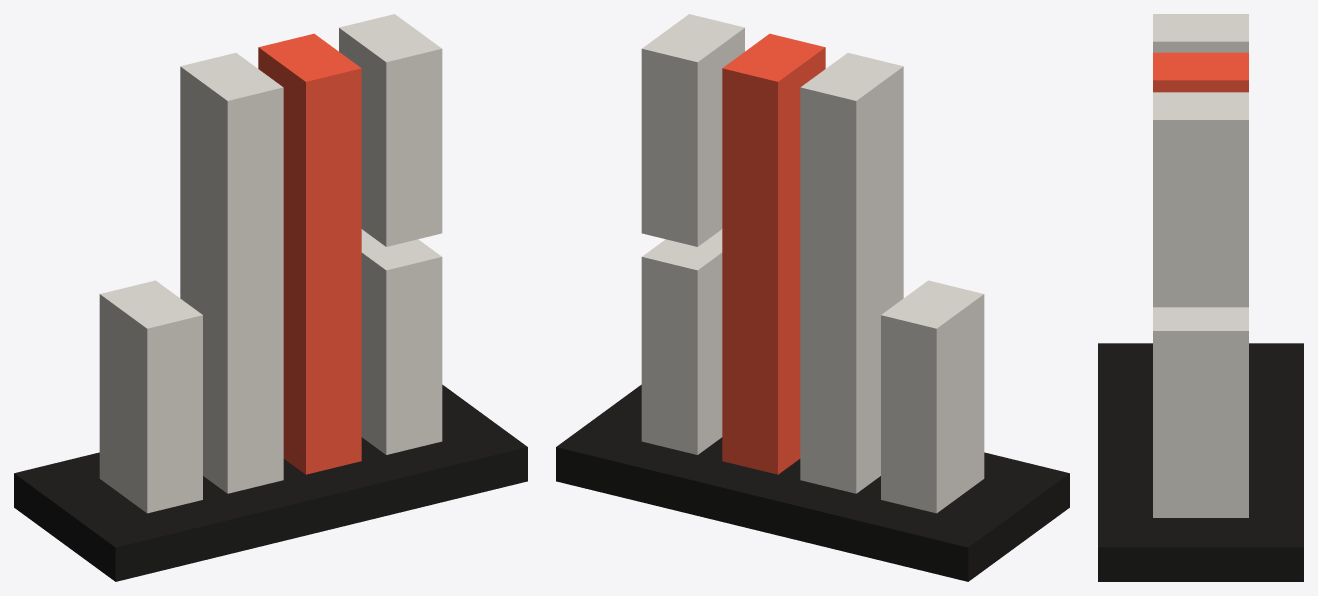
The picture shows the model from 3 angles, left to right: view 1: azimuth 30°, elevation 25°; view 2: azimuth 150°, elevation 25°; view 3: azimuth 270°, elevation 25°; orthographic projection.
Parts seen in each view (by area): view 1: bar1, plinth, bar2, bar0, bar3, bar4; view 2: bar1, plinth, bar2, bar0, bar3, bar4; view 3: plinth, bar3, bar4, bar2, bar1.
Boxes of the visible parts, bbox=[...] form: bar1: bbox=[180, 53, 283, 493]; plinth: bbox=[14, 384, 527, 581]; bar2: bbox=[258, 33, 361, 474]; bar0: bbox=[99, 280, 202, 513]; bar3: bbox=[339, 14, 442, 246]; bar4: bbox=[361, 230, 442, 454]; bar1: bbox=[800, 53, 903, 493]; plinth: bbox=[556, 384, 1069, 581]; bar2: bbox=[722, 33, 825, 474]; bar0: bbox=[881, 280, 984, 513]; bar3: bbox=[641, 14, 744, 246]; bar4: bbox=[641, 230, 722, 454]; plinth: bbox=[1098, 343, 1303, 581]; bar3: bbox=[1153, 92, 1248, 307]; bar4: bbox=[1153, 307, 1248, 517]; bar2: bbox=[1153, 52, 1248, 92]; bar1: bbox=[1153, 14, 1248, 52].
Size of the model in its own units: 0.1757 by 0.174 by 0.075.
